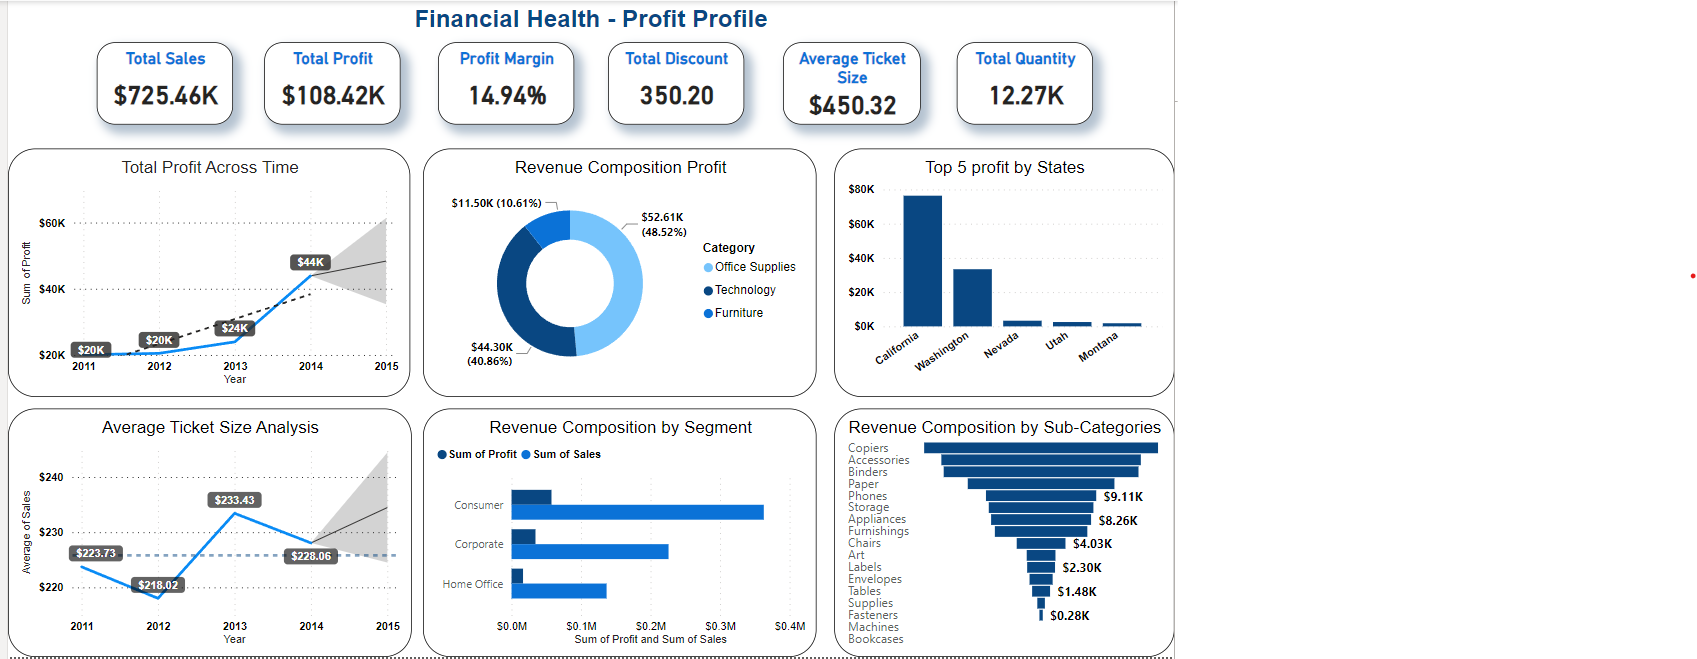

Layout of this report page (visuals, bound fields, positions):
{"tool":"powerbi","page":{"name":"Financial_Health","canvas":[1280,720],"ordinal":0},"visuals":[{"type":"textbox","box":[0,0,1280,45.7],"z":0},{"type":"card","title":"Total Sales","fields":{"Values":["Sum(Walmart.Sales)"]},"box":[97.4,45.3,149.6,90.6],"z":1000},{"type":"lineChart","title":"Average Ticket Size Analysis","fields":{"Category":["Walmart.Order Date.Variation.Date Hierarchy.Year"],"Y":["Avg(Walmart.Sales)"]},"box":[0,447.3,443.2,273.1],"z":2000},{"type":"columnChart","title":"Top 5 profit by States","fields":{"Category":["Walmart.State"],"Y":["Sum(Walmart.Profit)"]},"box":[907,161.9,373.2,273.1],"z":3000},{"type":"card","title":"Total Profit","fields":{"Values":["Sum(Walmart.Profit)"]},"box":[281.3,45.3,149.6,90.6],"z":4000},{"type":"card","title":"Profit Margin","fields":{"Values":["Avg(WALMART_2.Percentage_Margin)"]},"box":[472,45.3,149.6,90.6],"z":5000},{"type":"card","title":"Total Discount","fields":{"Values":["WALMART_2.TotalDiscount"]},"box":[658.7,45.3,149.6,90.6],"z":6000},{"type":"card","title":"Average Ticket Size","fields":{"Values":["Avg(WALAMART_2.Total_Sales)"]},"box":[850.8,45.3,150.9,90.6],"z":7000},{"type":"card","title":"Total Quantity","fields":{"Values":["Sum(WALMART_2.Total_Quantity)"]},"box":[1041.5,45.3,149.6,90.6],"z":8000},{"type":"donutChart","title":"Revenue Composition  Profit","fields":{"Category":["Walmart.Category"],"Y":["Sum(Walmart.Profit)"]},"box":[455.6,161.9,432.2,273.1],"z":9000},{"type":"lineChart","title":"Total Profit Across Time","fields":{"Category":["Walmart.Order Date.Variation.Date Hierarchy.Year"],"Y":["Sum(Walmart.Profit)"]},"box":[0,161.9,441.9,273.1],"z":10000},{"type":"clusteredBarChart","title":"Revenue Composition  by Segment","fields":{"Category":["Walmart.Segment"],"Y":["Sum(Walmart.Profit)","Sum(Walmart.Sales)"]},"box":[455.6,447.3,432.2,273.1],"z":11000},{"type":"funnel","title":"Revenue Composition  by Sub-Categories","fields":{"Category":["Walmart.Sub-Category"],"Y":["Sum(Walmart.Profit)"]},"box":[907,447.3,373.2,273.1],"z":12000}]}

Visuals, with their boxes on the page's 1280x720 design canvas (x1, y1, x2, y2). These are canvas units, not pixel positions in the 1697x659 screenshot, which may show the page scaled, cropped or inside an application window:
textbox: {"left": 0, "top": 0, "right": 1280, "bottom": 46}
"Total Sales" card: {"left": 97, "top": 45, "right": 247, "bottom": 136}
"Average Ticket Size Analysis" lineChart: {"left": 0, "top": 447, "right": 443, "bottom": 720}
"Top 5 profit by States" columnChart: {"left": 907, "top": 162, "right": 1280, "bottom": 435}
"Total Profit" card: {"left": 281, "top": 45, "right": 431, "bottom": 136}
"Profit Margin" card: {"left": 472, "top": 45, "right": 622, "bottom": 136}
"Total Discount" card: {"left": 659, "top": 45, "right": 808, "bottom": 136}
"Average Ticket Size" card: {"left": 851, "top": 45, "right": 1002, "bottom": 136}
"Total Quantity" card: {"left": 1042, "top": 45, "right": 1191, "bottom": 136}
"Revenue Composition  Profit" donutChart: {"left": 456, "top": 162, "right": 888, "bottom": 435}
"Total Profit Across Time" lineChart: {"left": 0, "top": 162, "right": 442, "bottom": 435}
"Revenue Composition  by Segment" clusteredBarChart: {"left": 456, "top": 447, "right": 888, "bottom": 720}
"Revenue Composition  by Sub-Categories" funnel: {"left": 907, "top": 447, "right": 1280, "bottom": 720}
